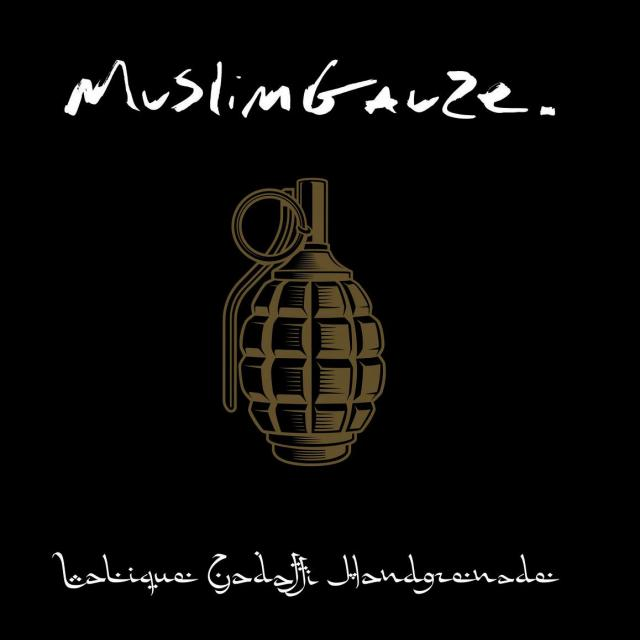grenade: (224, 179, 386, 468)
